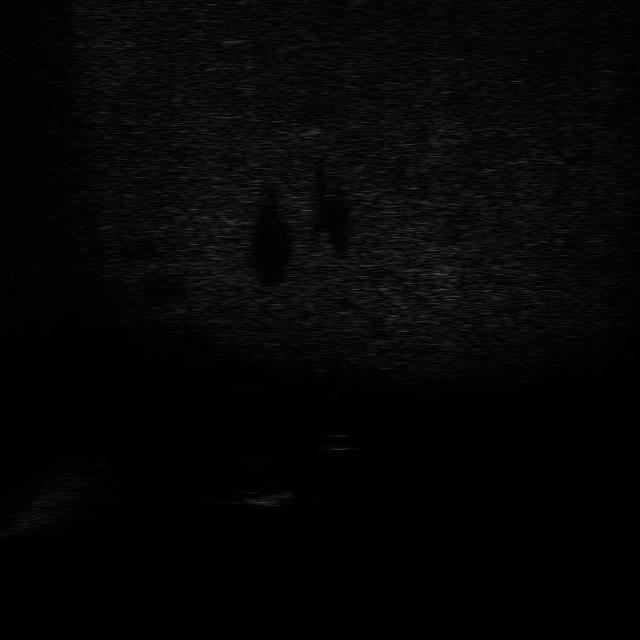ball: (320, 429, 361, 452)
human body: (300, 352, 349, 403)
square cage: (234, 478, 298, 508)
